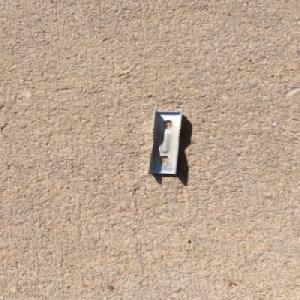ClampPart: (146, 107, 187, 175)
